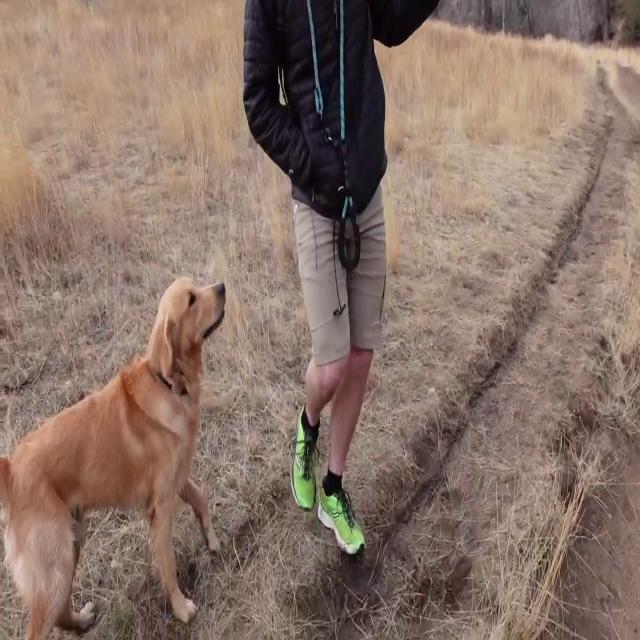Unleashed_Dog: (0, 274, 351, 640)
